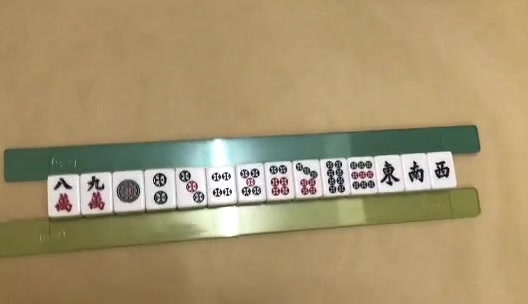1p: (116, 178, 141, 204)
1z: (381, 161, 400, 188)
2p: (152, 172, 167, 206)
2z: (409, 161, 424, 184)
3p: (179, 171, 205, 202)
3z: (434, 160, 451, 178)
4p: (212, 172, 233, 198)
5p: (241, 169, 263, 197)
6p: (269, 164, 289, 197)
7p: (295, 162, 318, 194)
8m: (54, 178, 73, 214)
8p: (325, 159, 345, 193)
9m: (87, 176, 105, 209)
9p: (350, 161, 376, 189)
